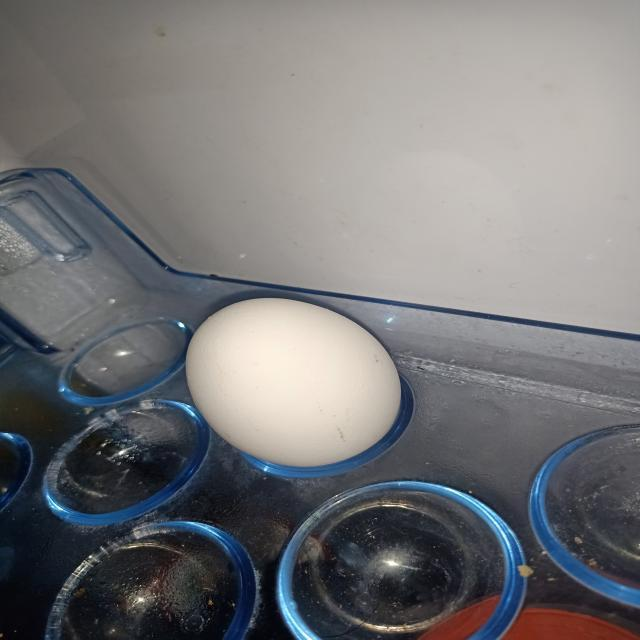Egg: (176, 280, 431, 472)
